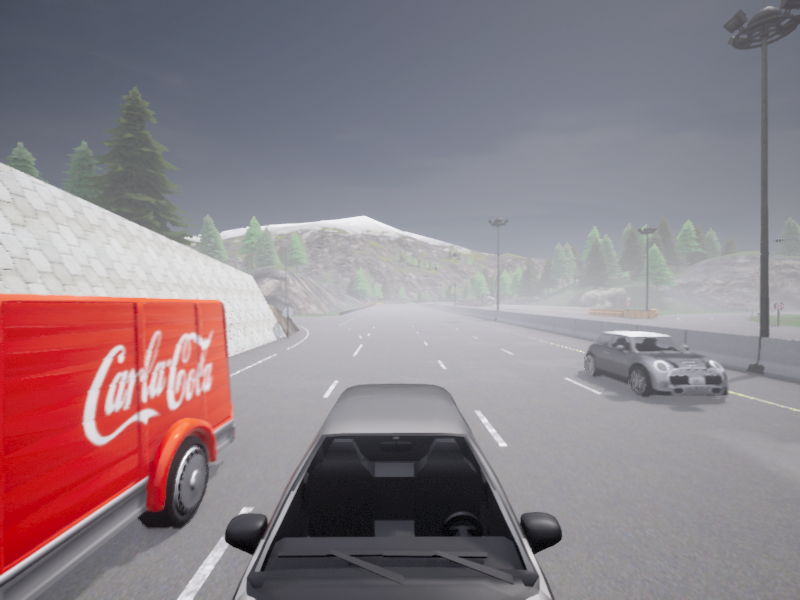vehicle: (225, 384, 561, 599), (0, 293, 235, 599), (585, 331, 727, 396)
